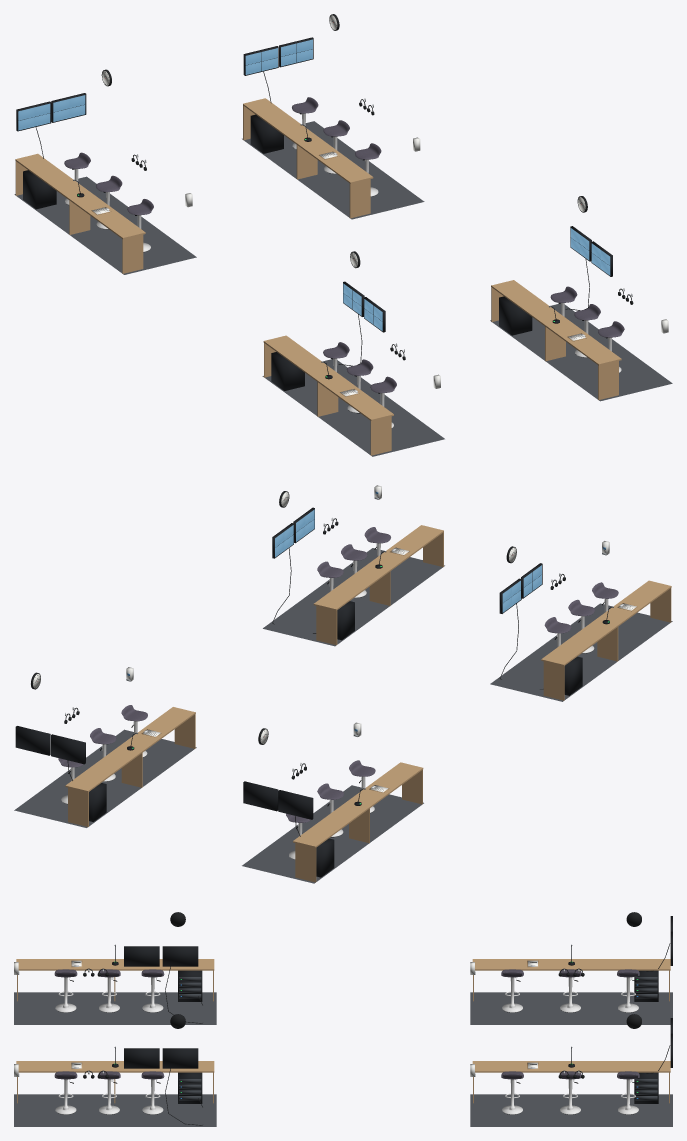
The model's file is 06_n1_control_y_observacion.glb.
3 renders of one model, top to bottom at view 1: azimuth 30°, elevation 25°; view 2: azimuth 150°, elevation 25°; view 3: azimuth 270°, elevation 25°, orthographic. The views are drawn at different scales.
Parts seen in each view (by area): view 1: piso · Cabina Gesell, piso · Cabina Gesell.002, piso · Cabina Gesell.003, piso · Cabina Gesell.001, barra de observación.002, barra de observación.001, barra de observación.003, barra de observación.004, rack_av (×4), pantalla_32 (×4); view 2: barra de observación.003, barra de observación.004, barra de observación.002, barra de observación.001, piso · Cabina Gesell, piso · Cabina Gesell.001, piso · Cabina Gesell.003, piso · Cabina Gesell.002, pantalla_32 (×4), rack_av (×4); view 3: piso · Cabina Gesell.001, piso · Cabina Gesell.003, piso · Cabina Gesell, piso · Cabina Gesell.002, rack_av (×4), pantalla_32 (×4), barra de observación.001, barra de observación.002, barra de observación.003, barra de observación.004.
Part boxes in pixels (x1,y1,x2,y2): piso · Cabina Gesell: [262, 359, 444, 456]; piso · Cabina Gesell.002: [14, 176, 196, 274]; piso · Cabina Gesell.003: [242, 121, 424, 219]; piso · Cabina Gesell.001: [490, 303, 672, 401]; barra de observación.002: [243, 98, 373, 218]; barra de observación.001: [15, 153, 145, 273]; barra de observación.003: [263, 335, 393, 455]; barra de observación.004: [491, 280, 621, 400]; rack_av (×4): [23, 114, 532, 390]; pantalla_32 (×4): [16, 37, 313, 131]; barra de observación.003: [541, 580, 671, 700]; barra de observación.004: [313, 525, 443, 645]; barra de observación.002: [65, 707, 195, 826]; barra de observación.001: [293, 762, 423, 882]; piso · Cabina Gesell: [490, 603, 672, 701]; piso · Cabina Gesell.001: [263, 548, 444, 646]; piso · Cabina Gesell.003: [14, 729, 196, 827]; piso · Cabina Gesell.002: [242, 785, 423, 883]; pantalla_32 (×4): [15, 726, 313, 819]; rack_av (×4): [89, 601, 582, 877]; piso · Cabina Gesell.001: [14, 1094, 216, 1126]; piso · Cabina Gesell.003: [470, 1094, 672, 1126]; piso · Cabina Gesell: [14, 992, 216, 1024]; piso · Cabina Gesell.002: [470, 992, 672, 1024]; rack_av (×4): [178, 970, 658, 1103]; pantalla_32 (×4): [124, 946, 198, 1068]; barra de observación.001: [472, 959, 670, 1001]; barra de observación.002: [472, 1061, 670, 1103]; barra de observación.003: [16, 959, 214, 1001]; barra de observación.004: [16, 1061, 214, 1103].
Bounding box in the file's own units: 6.65 × 2.65 × 13.65.
Materials: 22 (2 with a texture image).
